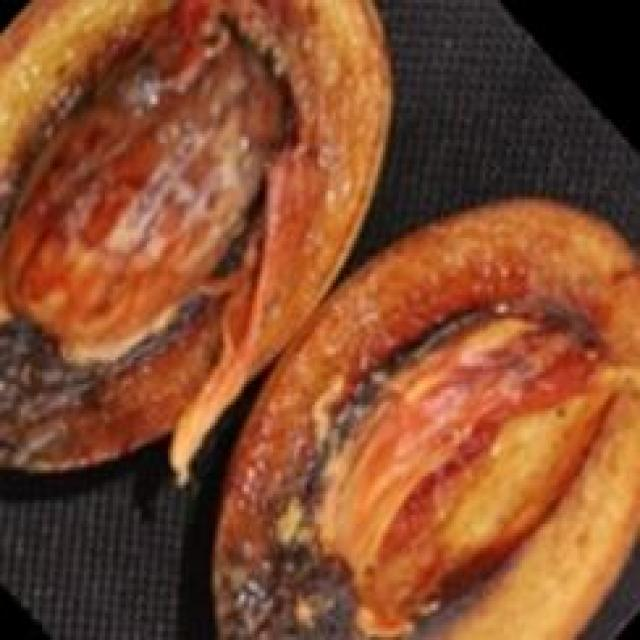damaged: (215, 199, 637, 637), (0, 0, 391, 470)
